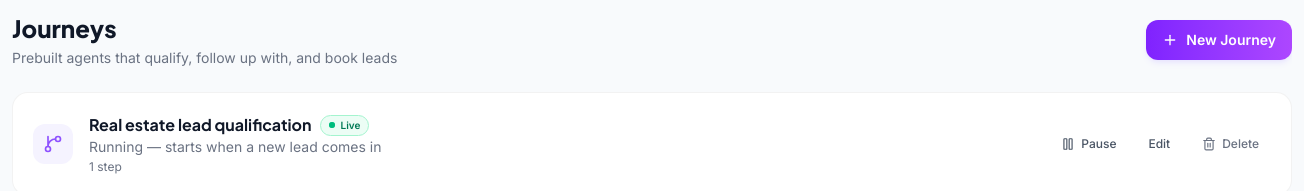
Scenario: pause, resume, publish are offered per status › pauses the right bundle and flips the row to Paused
Expected: the heading "Real estate lead qualification" is shown, [89,113,312,137]
Click the button "Pause". click: (1089, 144)
box: [1049,128,1128,160]
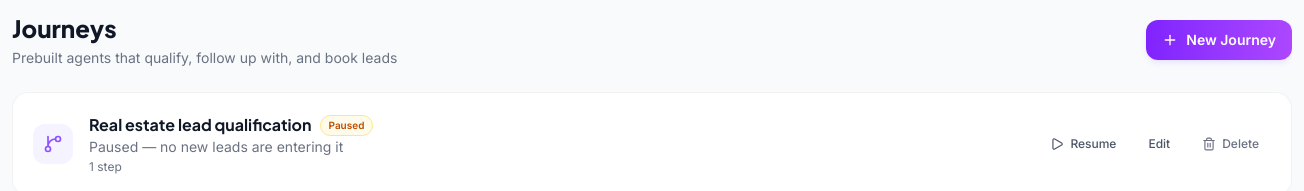
Now the text "Paused" is shown, box [320,114,373,136]
